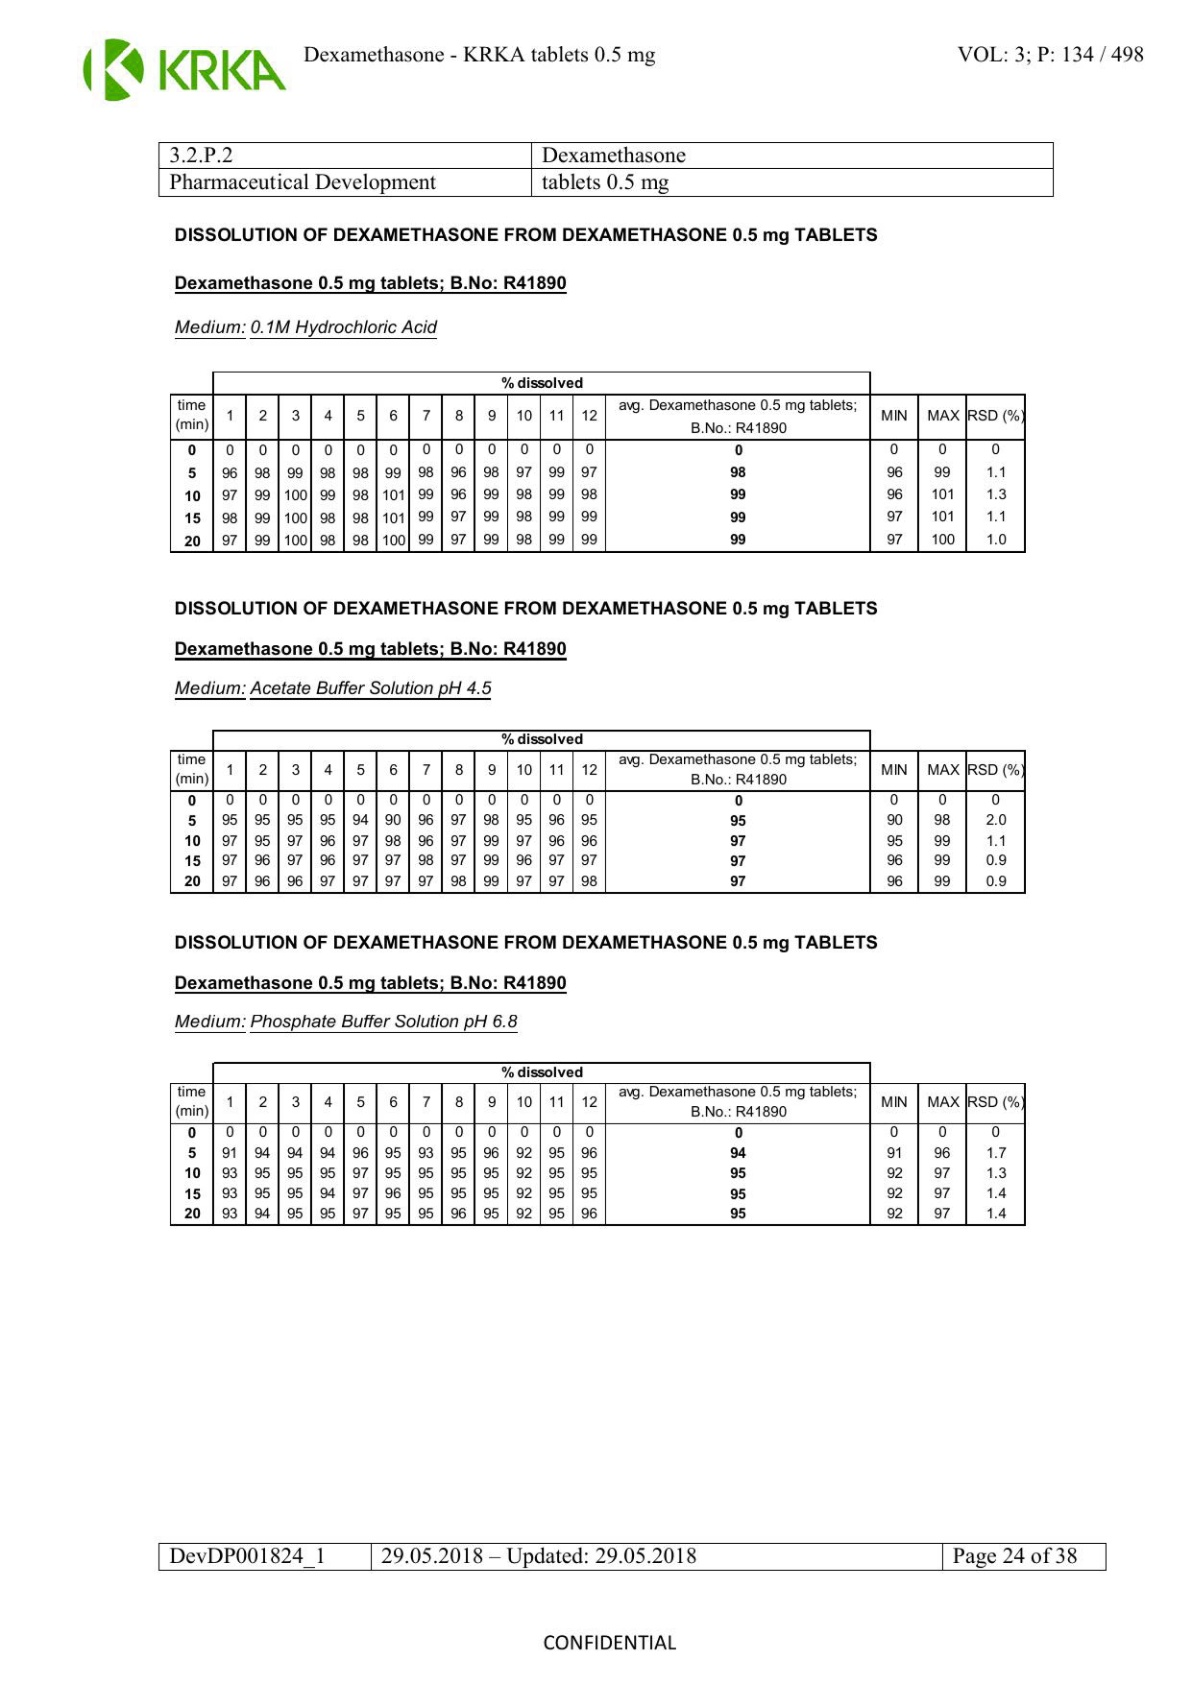full_lined: (157, 141, 1055, 199), (157, 1542, 1107, 1572)
partial_lined_merged_cells: (168, 370, 1027, 554), (169, 729, 1027, 895), (169, 1061, 1027, 1228)
